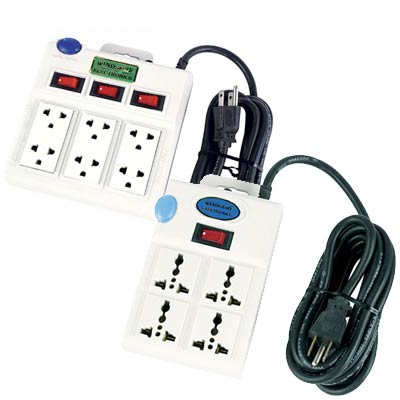Three_eye_plug: (114, 173, 295, 394), (5, 33, 202, 224)
